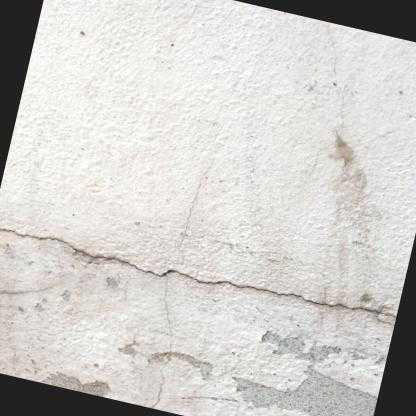crack: (0, 229, 396, 319)
